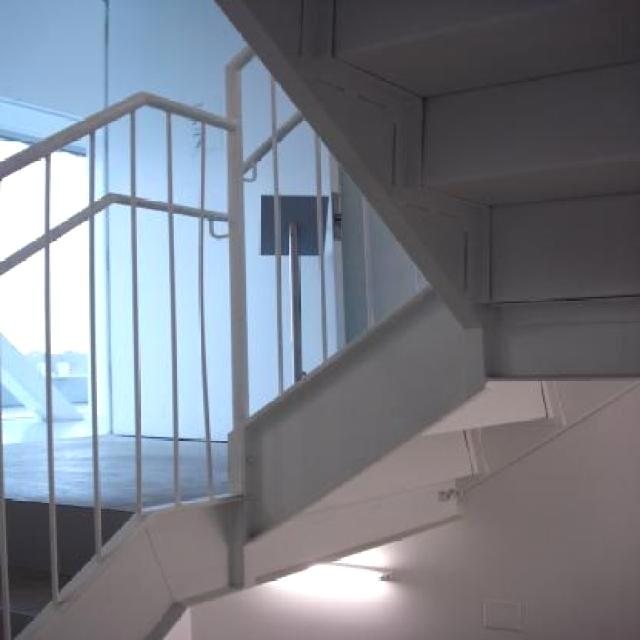stair: (211, 0, 638, 306), (218, 283, 546, 548), (0, 495, 135, 639)
